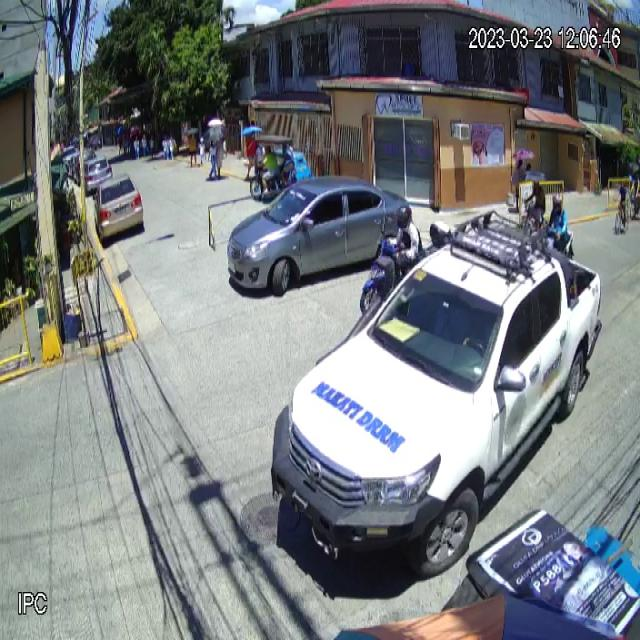Car: (270, 207, 603, 583), (226, 174, 413, 295)
